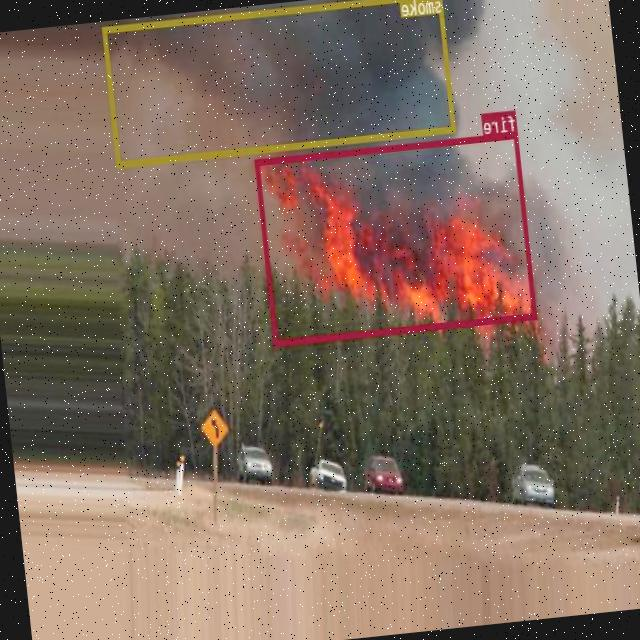fire: (255, 130, 538, 345)
smoke: (102, 0, 455, 167)
